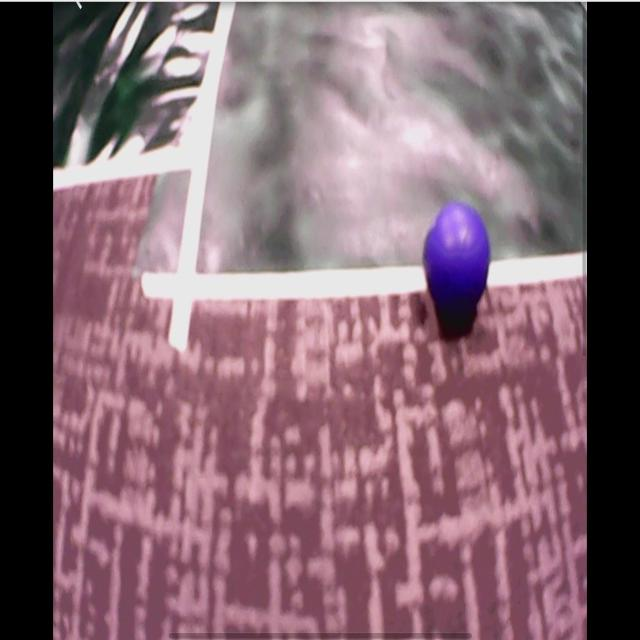ball: (423, 206, 492, 306)
